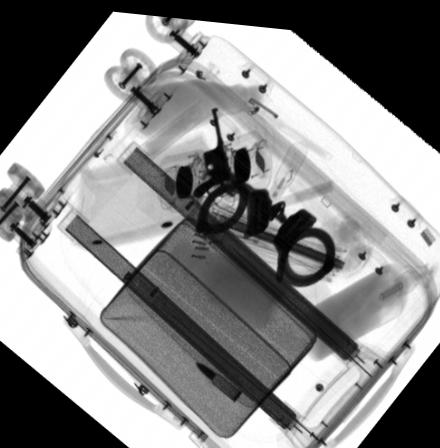Bullet: (192, 357, 242, 396)
Gun: (189, 101, 229, 193)
HandCuffs: (192, 163, 336, 278)
